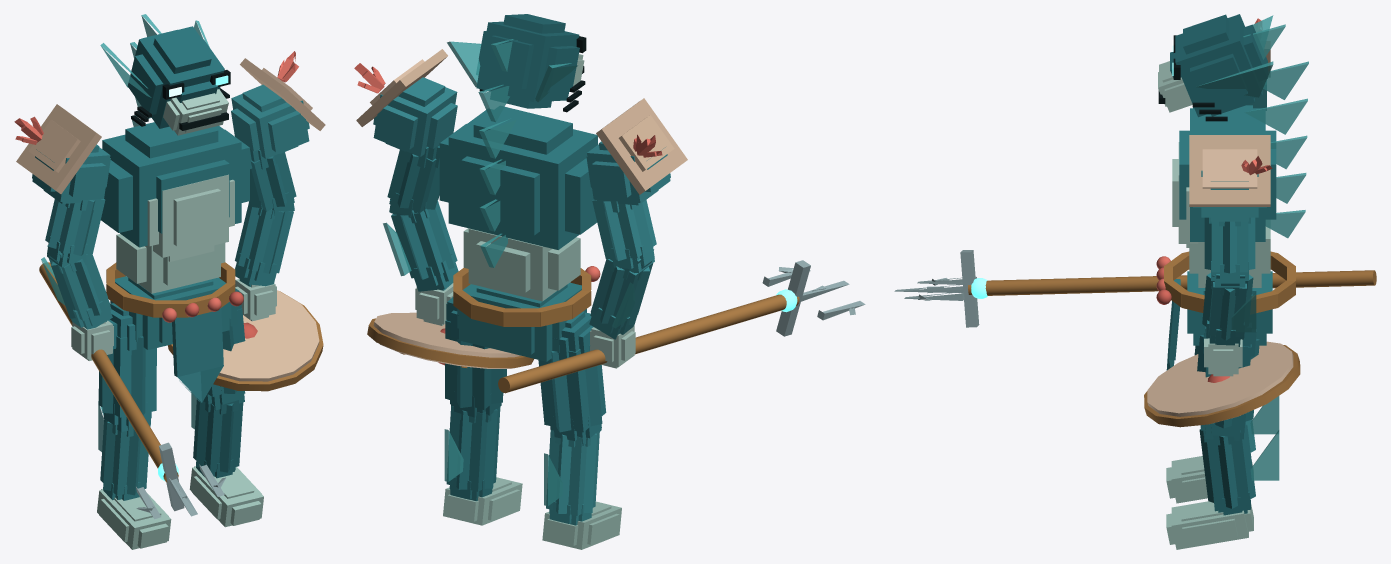
The picture shows the model from 3 angles, left to right: view 1: azimuth 30°, elevation 25°; view 2: azimuth 150°, elevation 25°; view 3: azimuth 270°, elevation 25°; orthographic projection. The views are drawn at different scales.
Visible parts, largest first — view 1: TideReaver; view 2: TideReaver; view 3: TideReaver.
Part boxes in pixels (x1,y1,x2,y2): TideReaver: (14,14,325,549); TideReaver: (354,14,865,549); TideReaver: (894,14,1376,549).
Bounding box in the file's own units: 0.9469 × 1.39 × 1.23.
